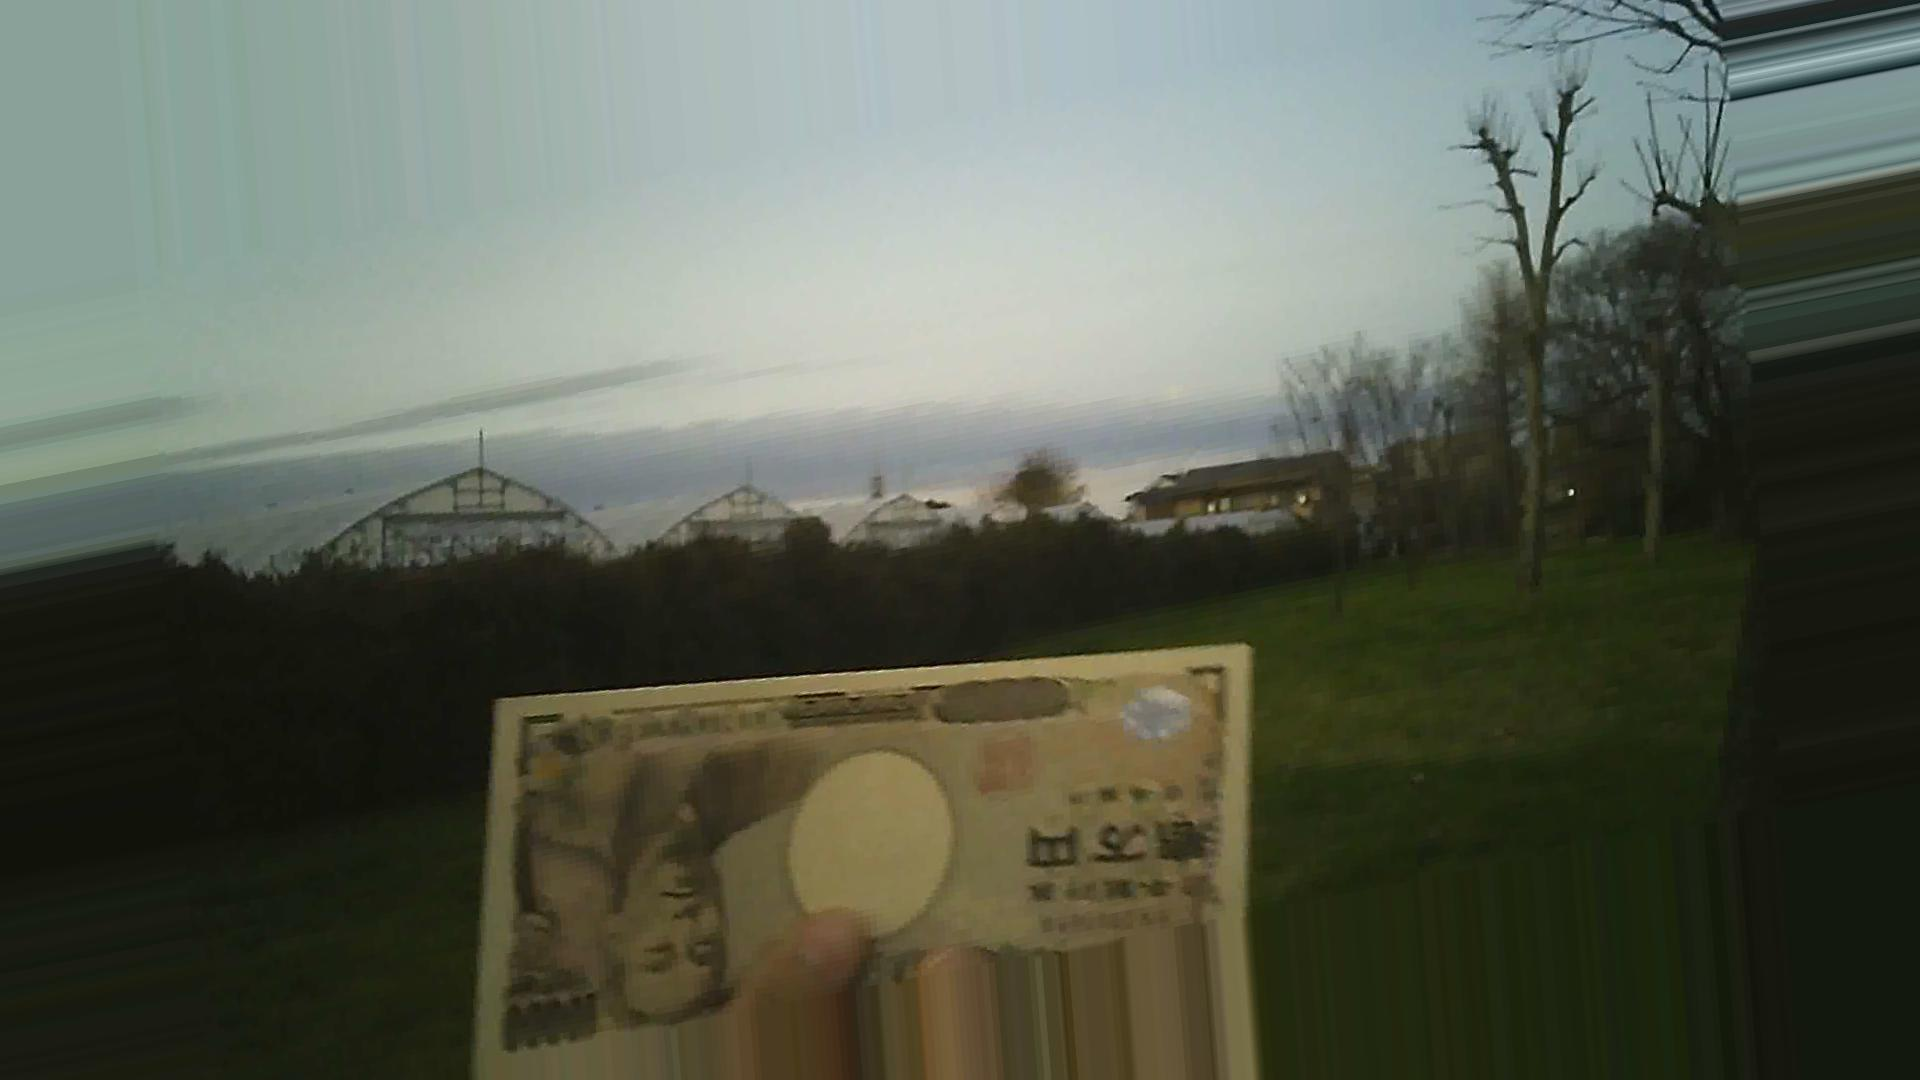10,000 Yen: (469, 638, 1273, 1052)
